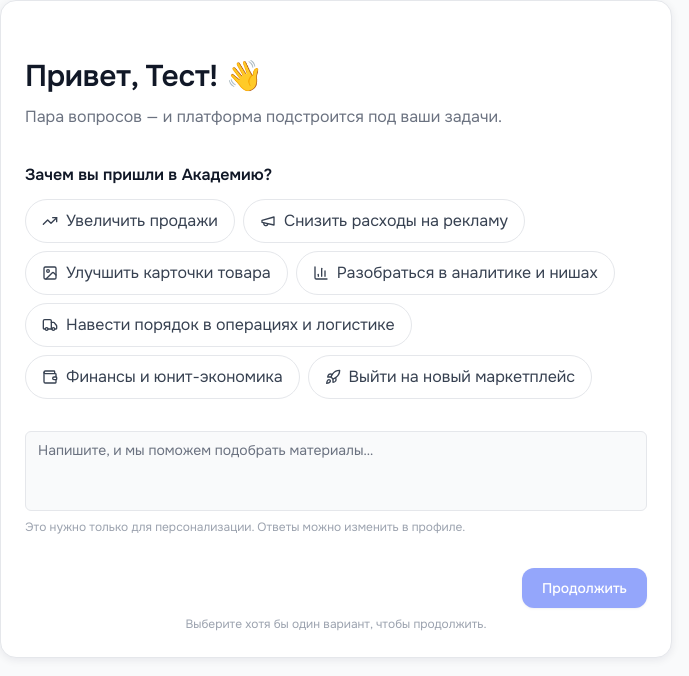
Scenario: WelcomePage — required answers per step › accepts free-text intent as a step 1 answer
Expected: the button "Продолжить" is disabled, [522, 568, 647, 608]
In the text box with placeholder "Напишите, и мы поможем подобрать материалы…": (336,471) [25, 431, 647, 511], type "хочу разобраться с рекламой"
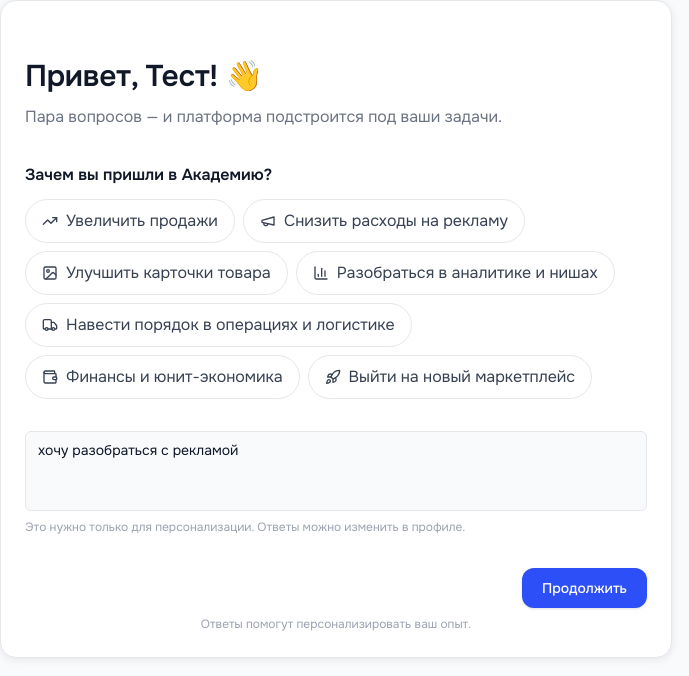
Expected: the button "Продолжить" is enabled, [522, 568, 647, 608]
